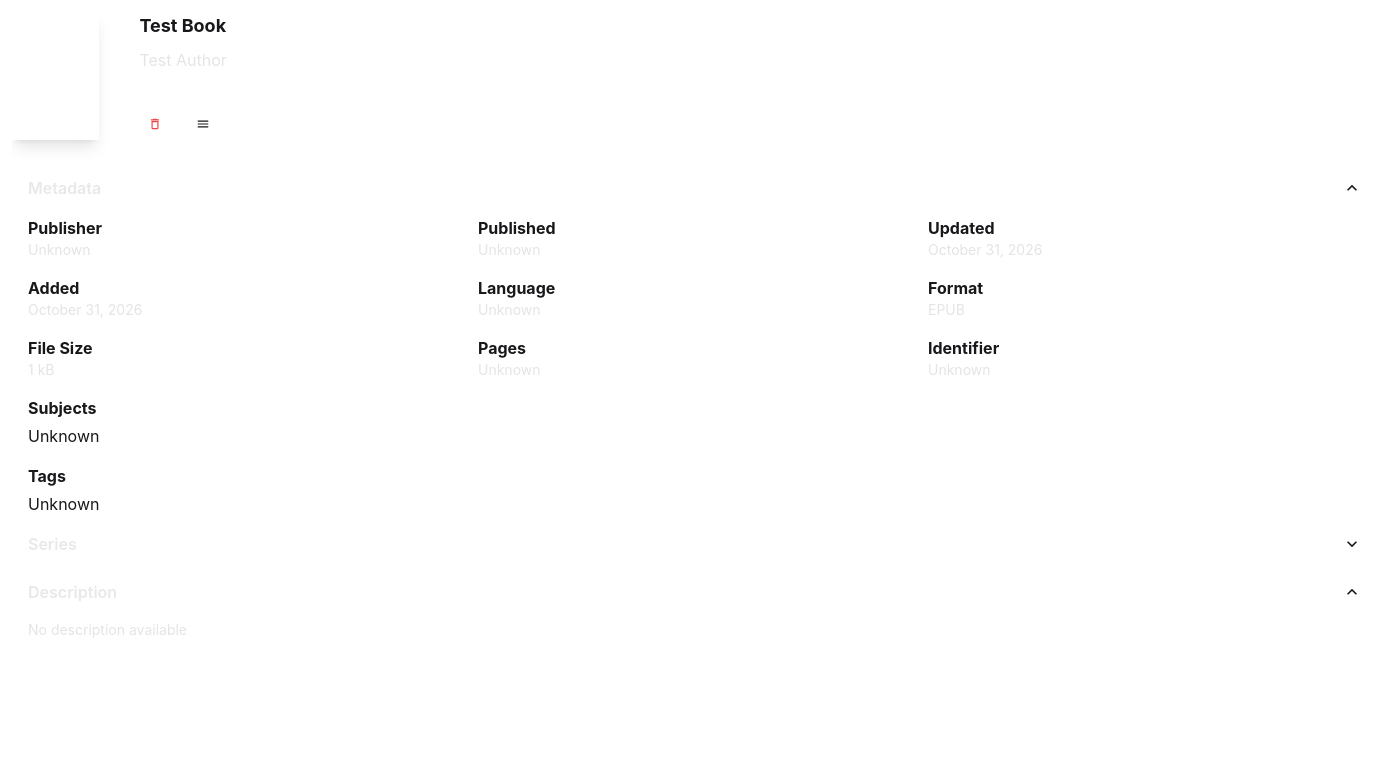
Test: BookDetailView More menu (Goodreads + Share) › folds Goodreads and Share into the hamburger menu
What coordinates should you click on to do the following:
click the button named "More Actions"
I would click on:
 (203, 124)
Its box is [187,108,219,140].
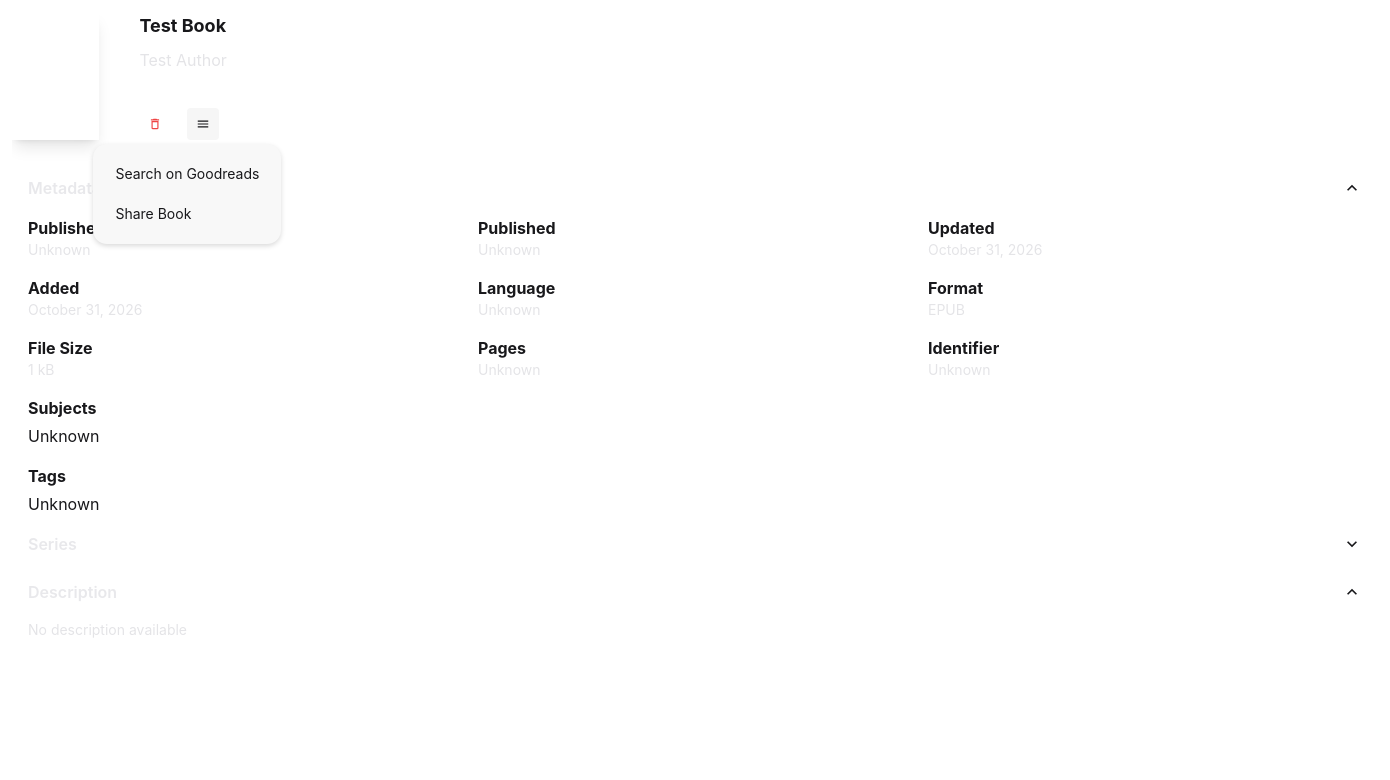
Result: the text "Search on Goodreads" is shown at [115,164,259,184]
Result: the text "Share Book" is shown at [115,204,191,224]
